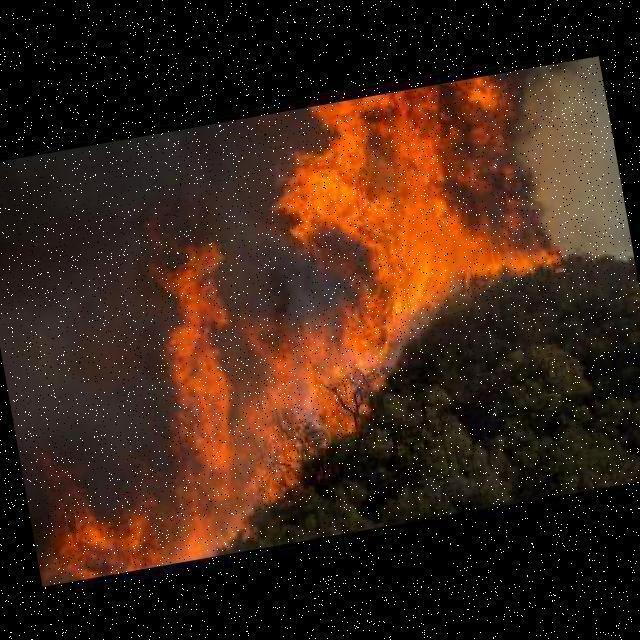Fire: (0, 78, 600, 579)
